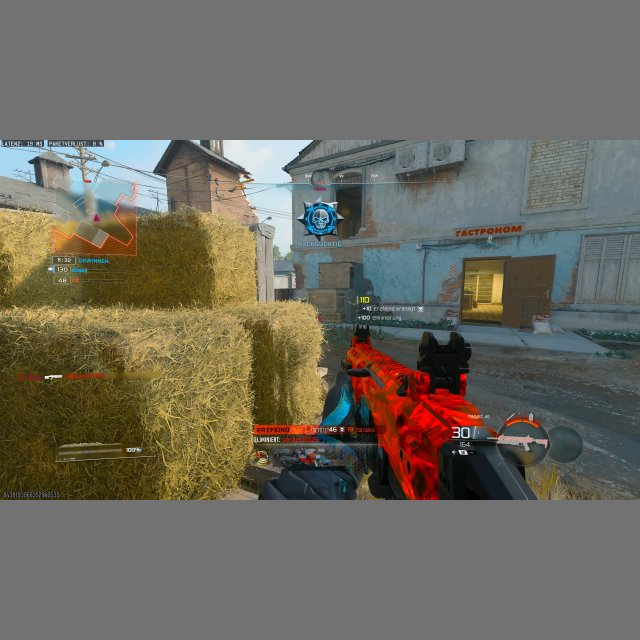head: (351, 326, 371, 347)
player: (319, 324, 381, 426)
